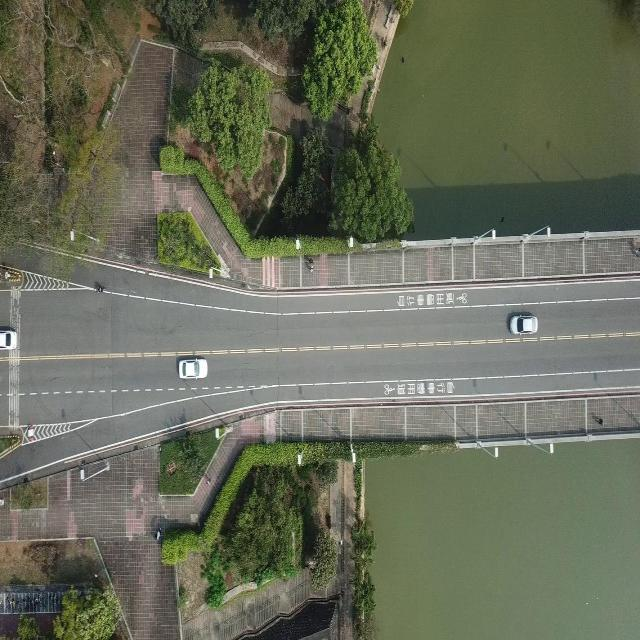bike: (89, 273, 114, 304)
car: (177, 355, 207, 380), (508, 312, 537, 335), (0, 327, 17, 350)
